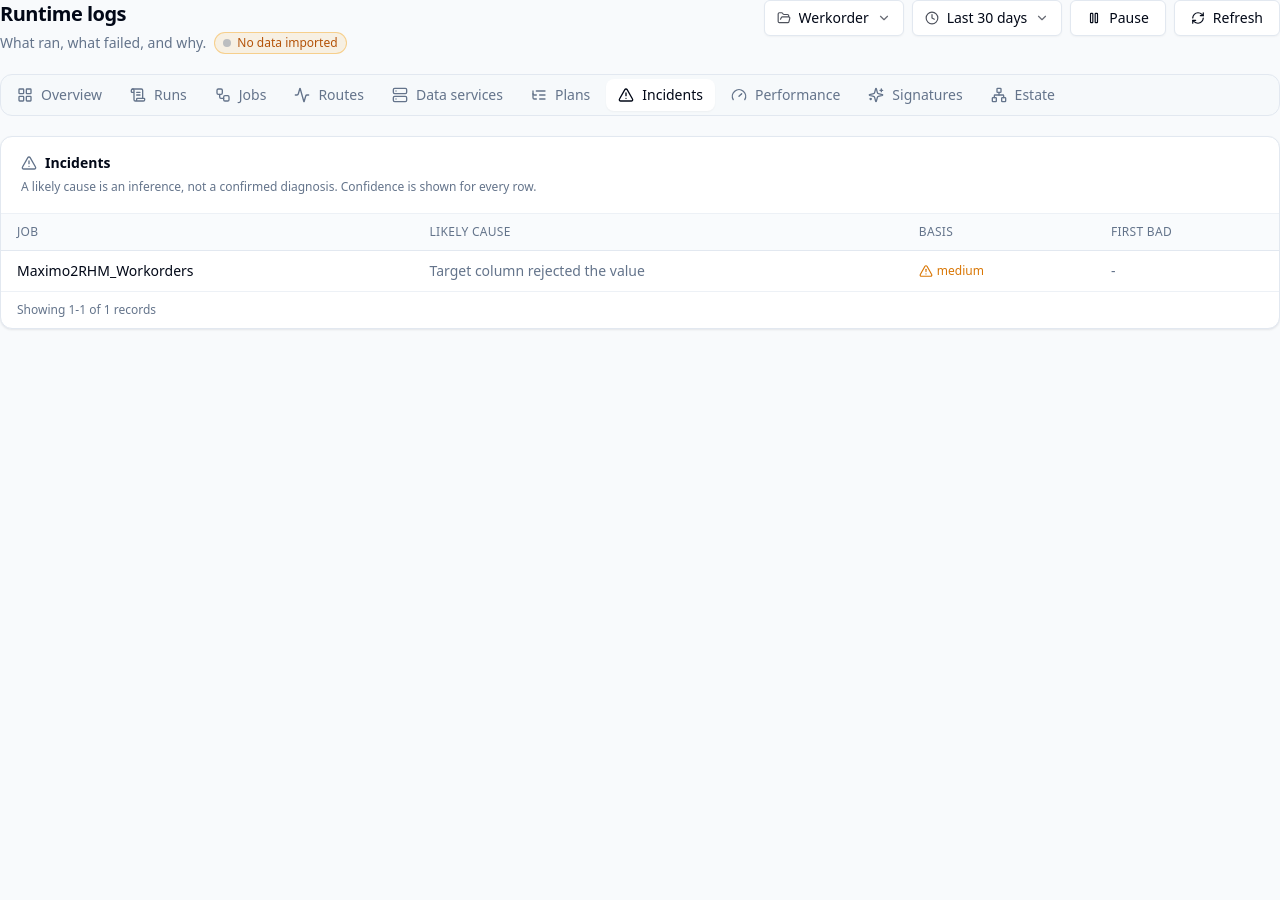
Test: RuntimeLogsPage › renders structured incident fields that the scalar-only drawer dropped
Click the text "Target column rejected the value": coordinates (537, 270) [414, 250, 903, 290]
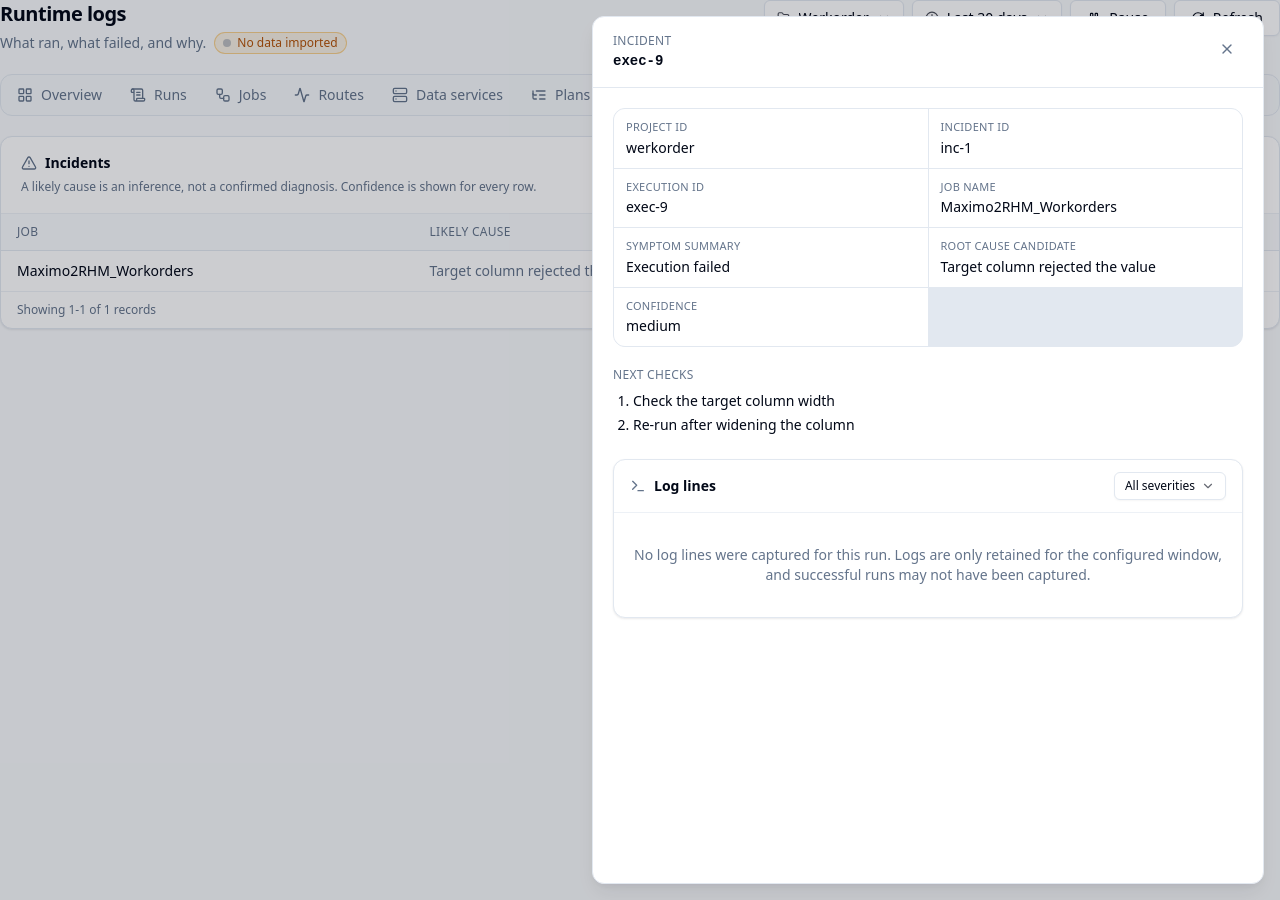
Now the heading "next checks" is shown, box [613, 366, 694, 383]
Now the list item "Check the target column width" is shown, box [633, 391, 835, 410]
Now the list item "Re-run after widening the column" is shown, box [633, 415, 855, 434]
